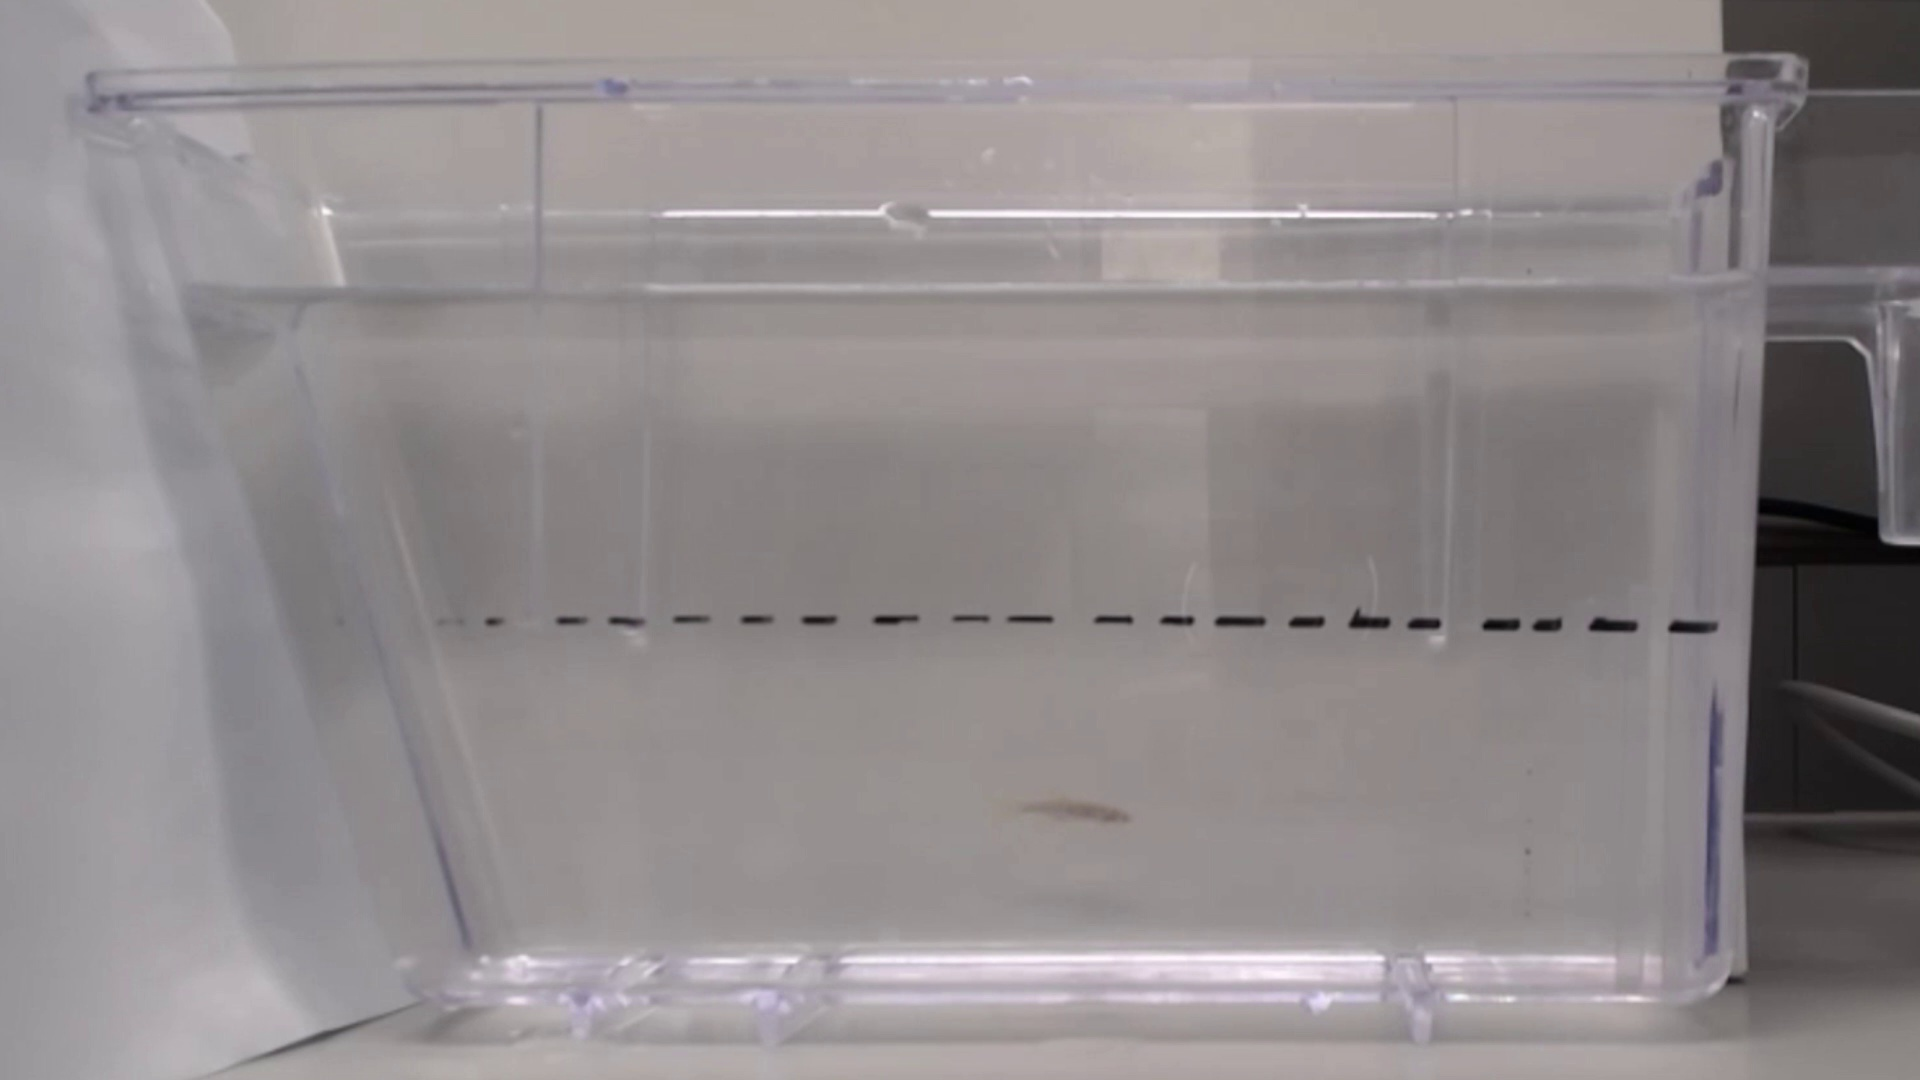zebrafish: (980, 777, 1158, 857)
